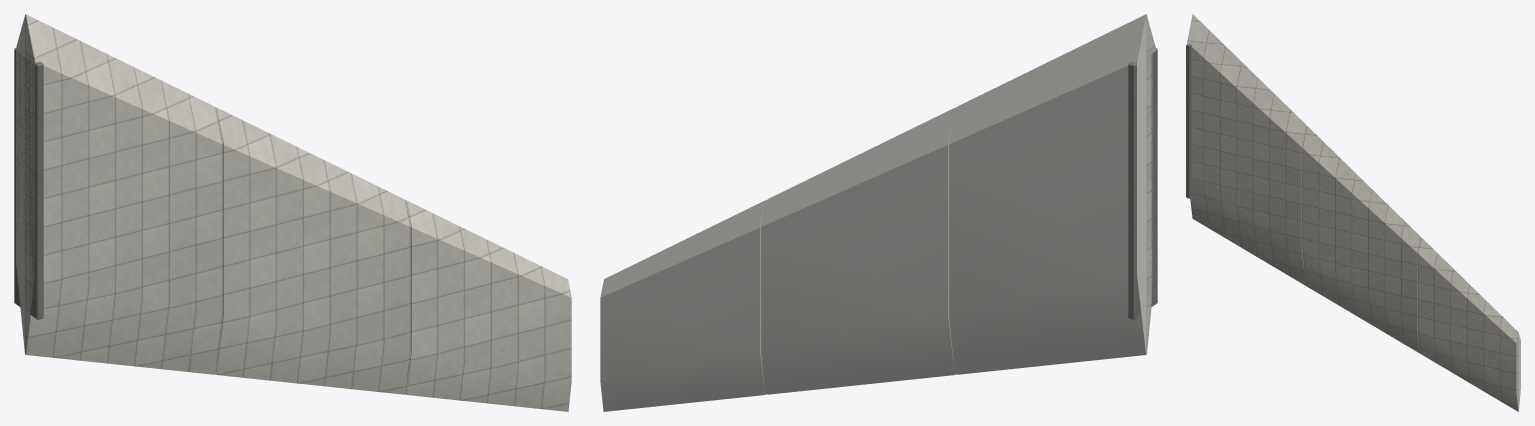
File: ax_aero_18_wgs_swept_wing_s.glb
The picture shows the model from 3 angles, left to right: view 1: azimuth 30°, elevation 25°; view 2: azimuth 150°, elevation 25°; view 3: azimuth 330°, elevation 25°; orthographic projection. The views are drawn at different scales.
Parts seen in each view (by area): view 1: wing_top, root_flange, wing_underside; view 2: wing_underside, root_flange, wing_top; view 3: wing_top, root_flange.
Part boxes in pixels (bbox=[...]): wing_top: bbox=[25, 14, 571, 411]; root_flange: bbox=[14, 48, 43, 319]; wing_underside: bbox=[16, 15, 25, 353]; wing_underside: bbox=[600, 14, 1146, 411]; root_flange: bbox=[1128, 48, 1157, 319]; wing_top: bbox=[1146, 15, 1155, 353]; wing_top: bbox=[1187, 14, 1518, 411]; root_flange: bbox=[1186, 44, 1193, 198].
Size of the model in its own units: 3 by 2.8 by 0.225.
Materials: 3 (2 with a texture image).
